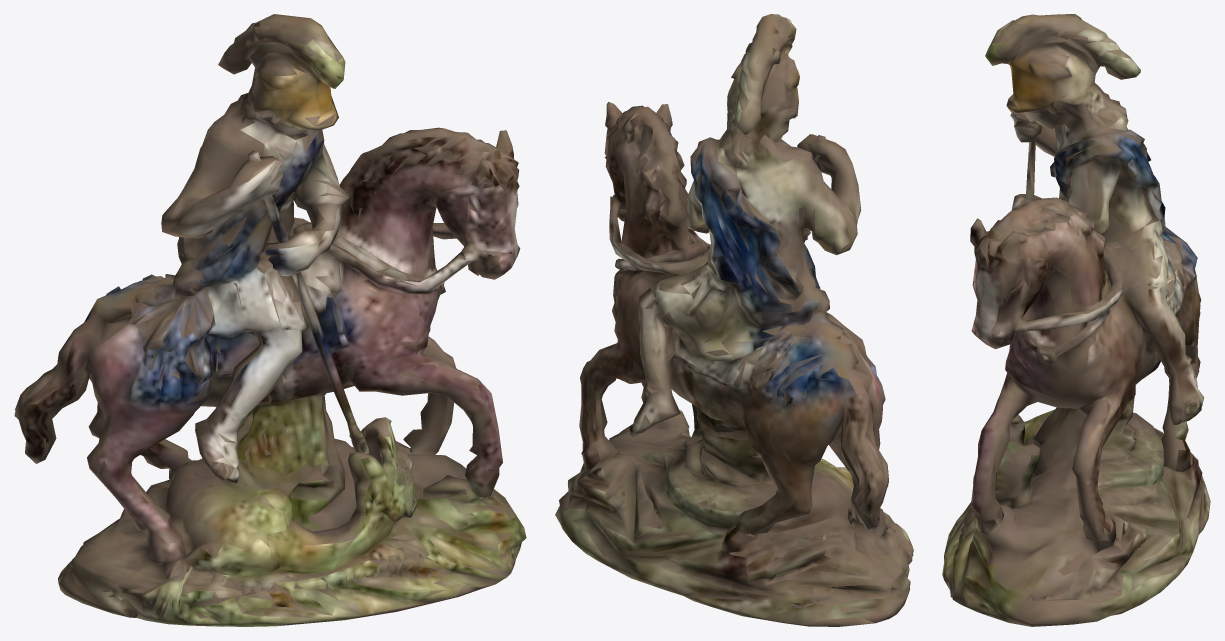
The picture shows the model from 3 angles, left to right: view 1: azimuth 30°, elevation 25°; view 2: azimuth 150°, elevation 25°; view 3: azimuth 270°, elevation 25°; orthographic projection. The views are drawn at different scales.
Parts seen in each view (by area): view 1: Mesh; view 2: Mesh; view 3: Mesh.
Part boxes in pixels (left/top/right/bottom): Mesh: left=14, top=14, right=526, bottom=626; Mesh: left=555, top=14, right=913, bottom=626; Mesh: left=942, top=14, right=1210, bottom=626.
Size of the model in its own units: 0.2033 by 0.2639 by 0.1234.
Materials: 1 (1 with a texture image).
